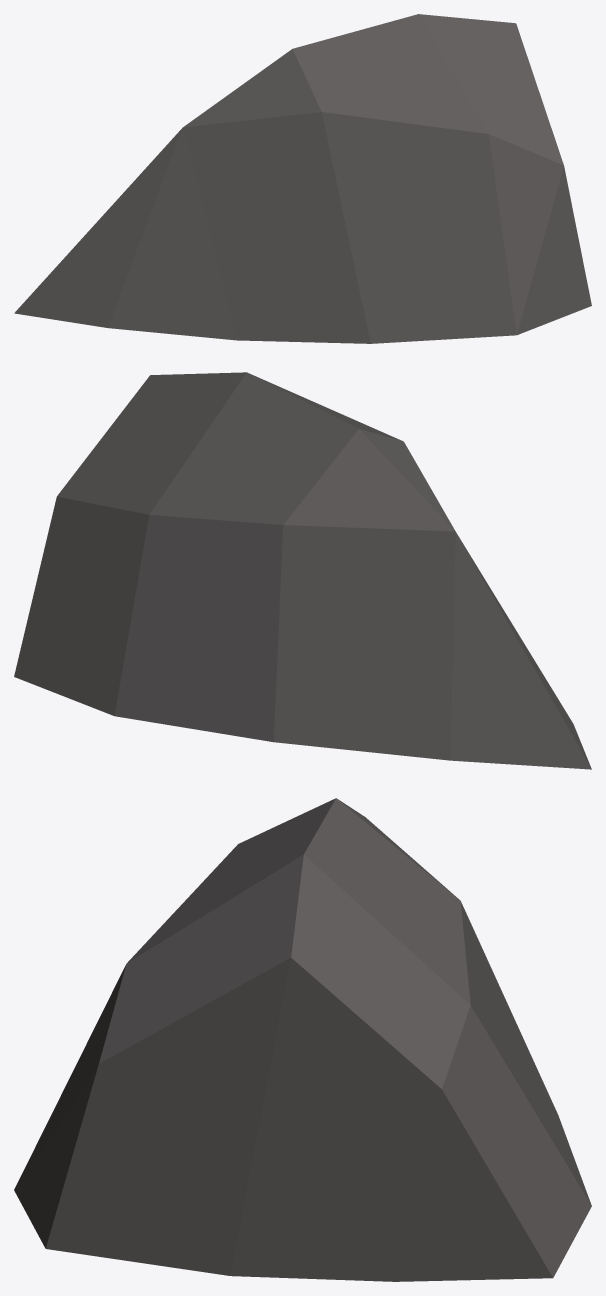
Rendered from RockMedium_02.glb.
3 renders of one model, top to bottom at view 1: azimuth 30°, elevation 25°; view 2: azimuth 150°, elevation 25°; view 3: azimuth 270°, elevation 25°, orthographic. The views are drawn at different scales.
Visible parts, largest first — view 1: RockMedium_02; view 2: RockMedium_02; view 3: RockMedium_02.
Part boxes in pixels (x1,y1,x2,y2): RockMedium_02: (14,14,591,343); RockMedium_02: (14,372,591,769); RockMedium_02: (14,798,591,1281).
Size of what is drawn, in the model's own units: 1.45 by 0.6874 by 1.06.
1 material, 1 textured.
